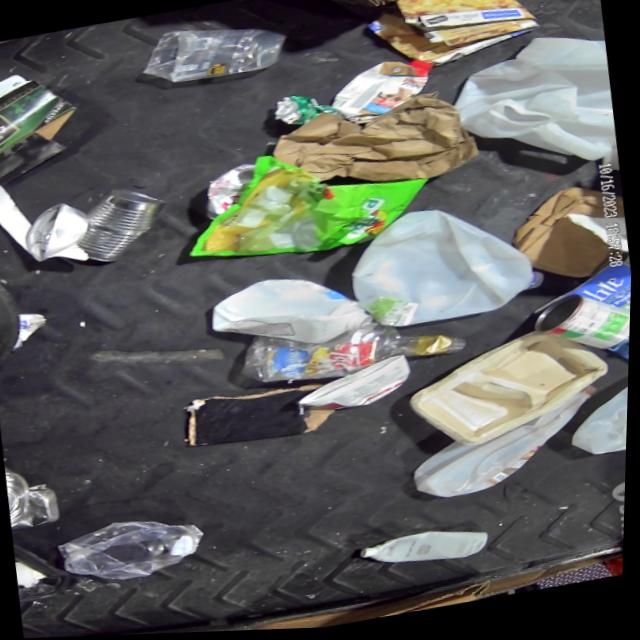can: (62, 182, 177, 272), (530, 288, 633, 367), (271, 91, 344, 132), (3, 447, 38, 531)
milk_jug: (444, 30, 624, 203), (342, 194, 551, 339), (406, 385, 610, 507), (207, 265, 373, 364), (328, 57, 441, 132), (361, 525, 493, 579), (566, 382, 631, 464)
plastic_bottle: (238, 306, 471, 398)
